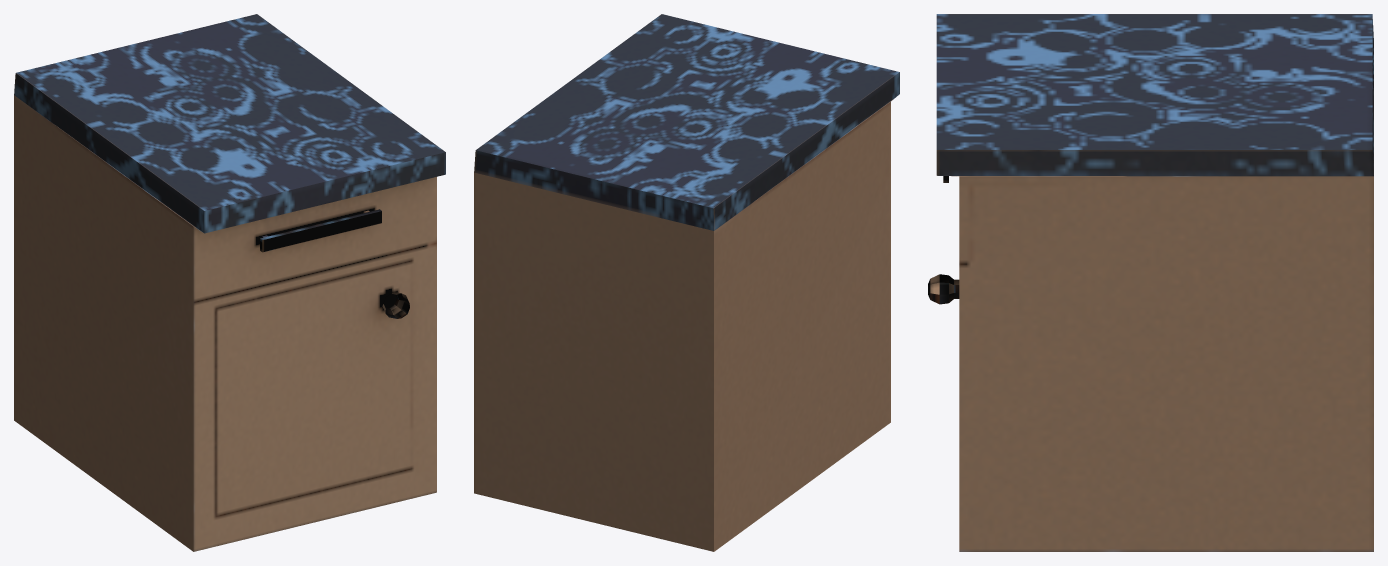
The model's file is cabinet01.fbx.
3 views of the same model, side by side, from view 1: azimuth 30°, elevation 25°; view 2: azimuth 150°, elevation 25°; view 3: azimuth 270°, elevation 25° (orthographic). The views are drawn at different scales.
Visible parts, largest first — view 1: counter cabinet; view 2: counter cabinet; view 3: counter cabinet.
Part boxes in pixels (<box>): counter cabinet: <box>14,14,445,551</box>; counter cabinet: <box>474,14,899,551</box>; counter cabinet: <box>928,14,1373,551</box>.
Size of the model in its own units: 0.4282 by 0.5884 by 0.5847.
Materials: 1 (1 with a texture image).
